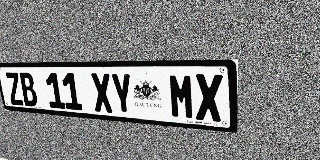1: (60, 73, 83, 110), (44, 73, 66, 109)
B: (18, 72, 39, 107)
M: (168, 74, 195, 120)
X: (195, 74, 223, 122), (90, 73, 114, 113)
Y: (110, 73, 134, 115)
Z: (4, 72, 24, 106)
